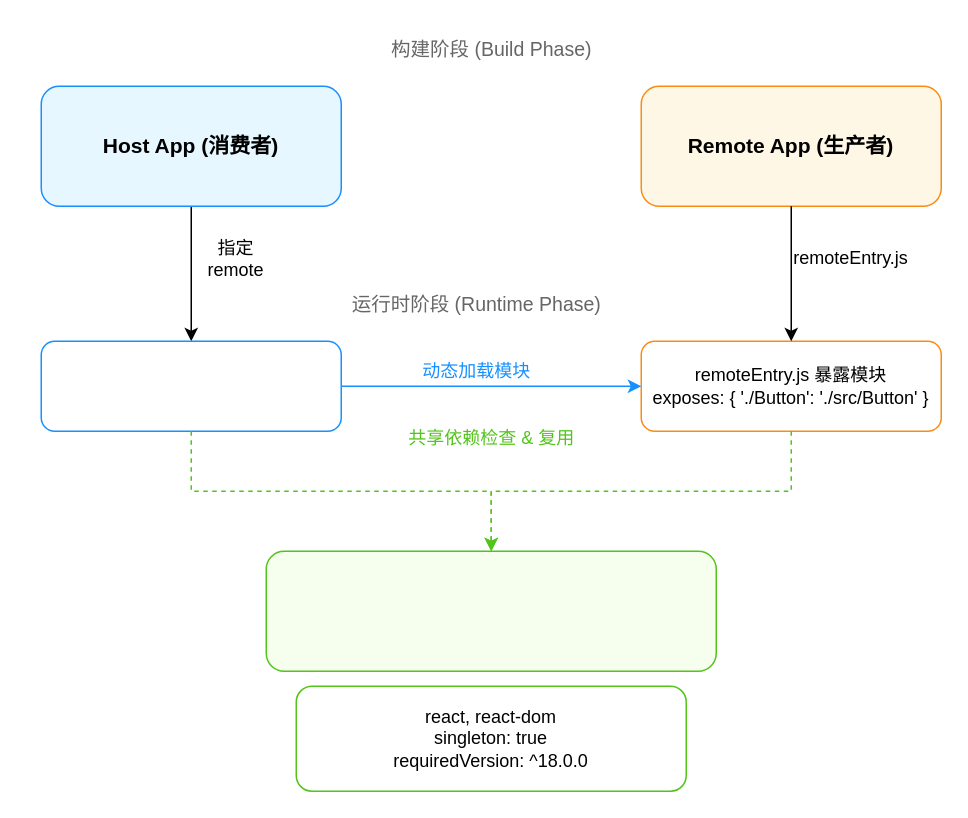
This 968x818 diagram has some shape labels left out. The shapes that lost their labels are listed below. From the top down, each one's centre as x and y in pixels, then its label:
At point 190,385: "加载 remoteEntry.js import('remoteApp/Button')".
At point 490,610: "Shared Scope (共享依赖作用域)".
